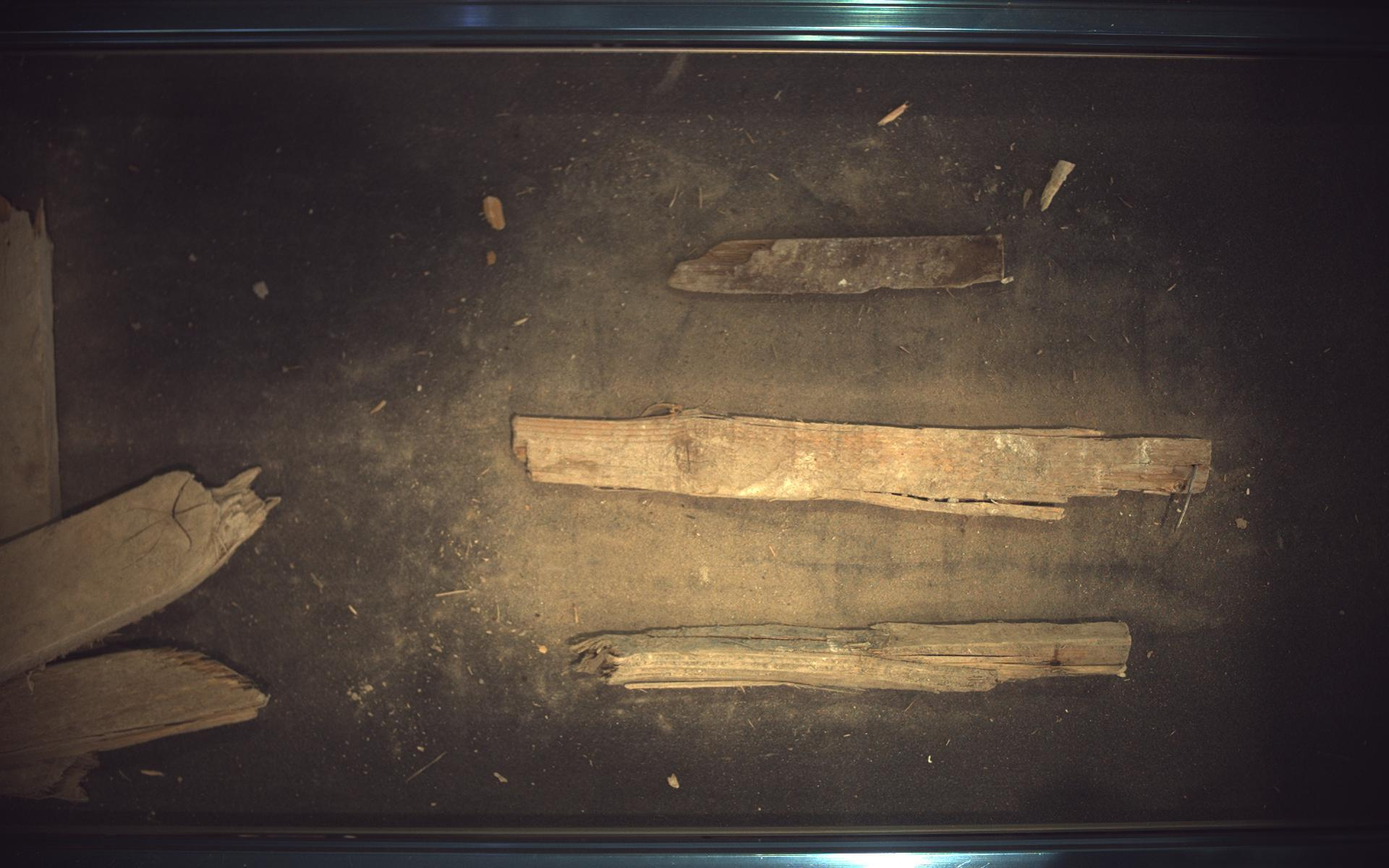wood: (513, 404, 1214, 520), (570, 622, 1134, 693), (670, 234, 1007, 294)
